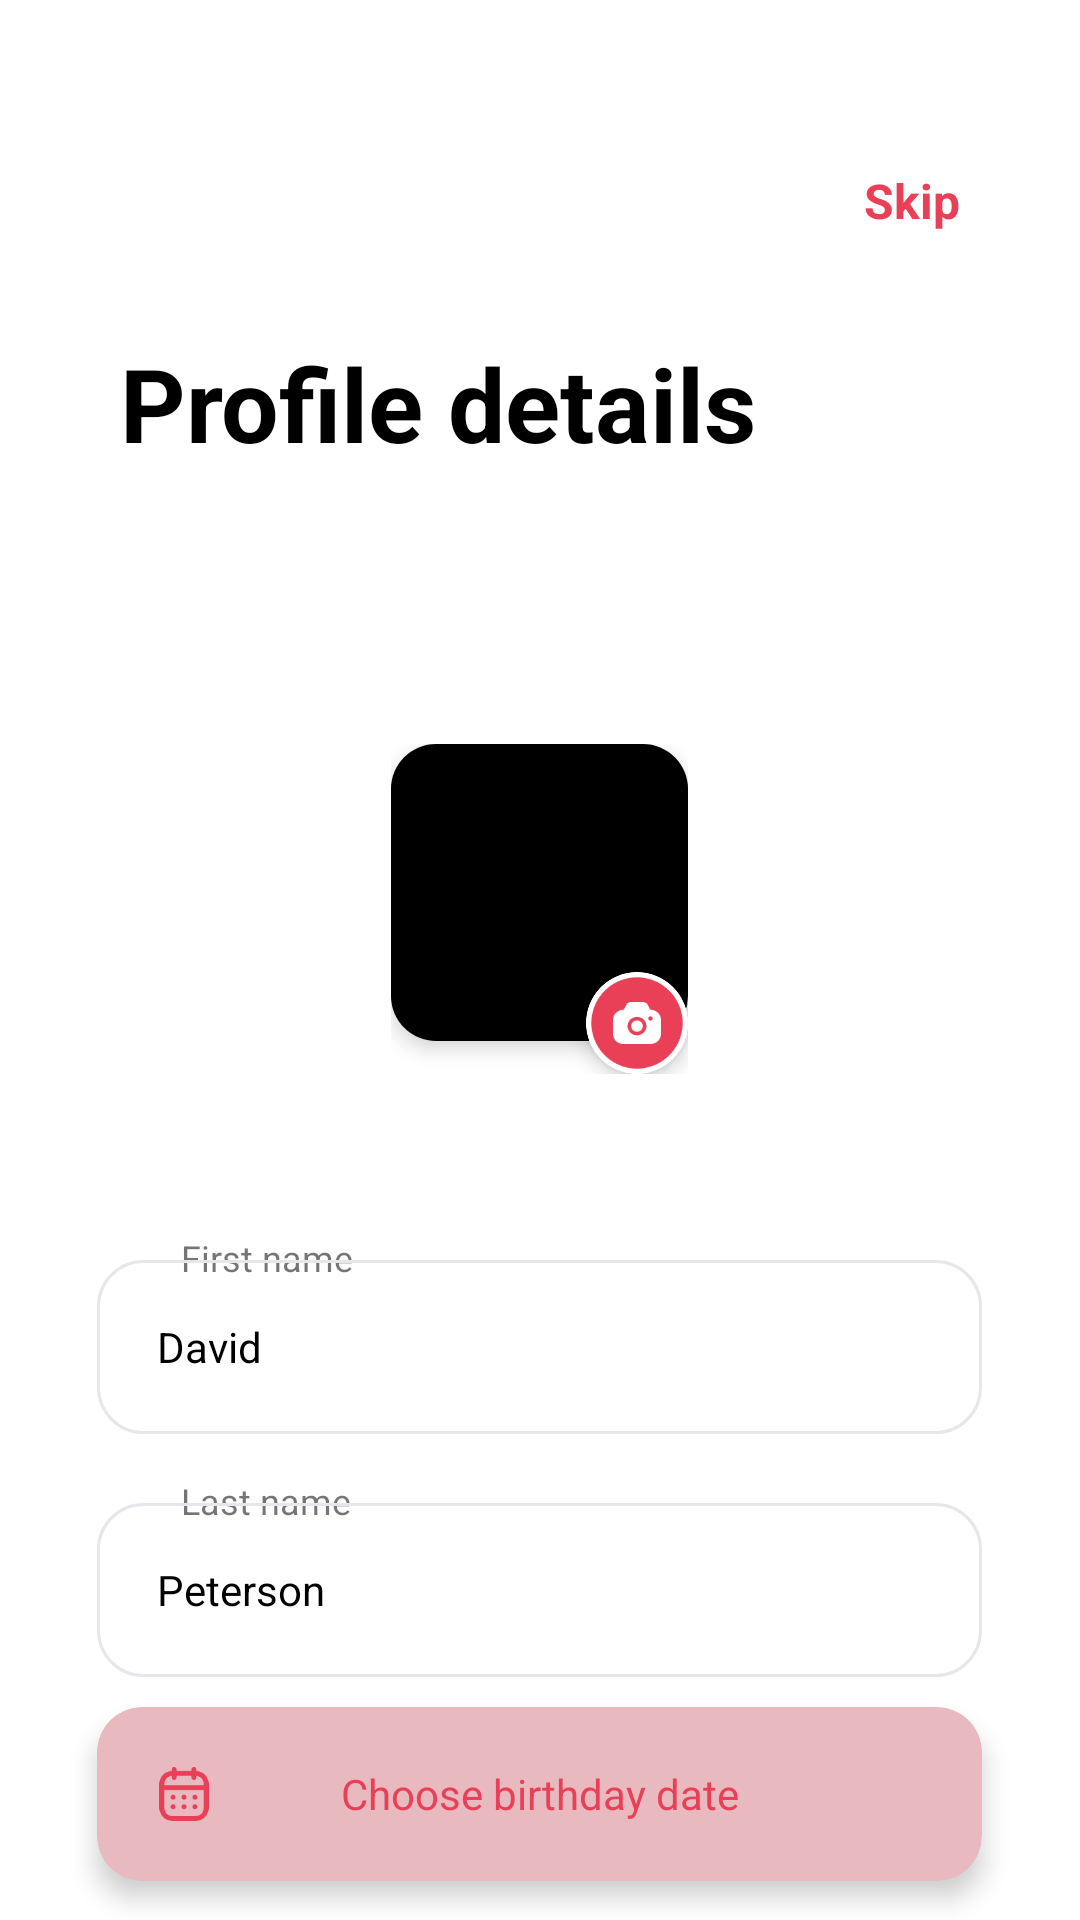

Named icons in this screenshot (1080 × 1920) and their centers, point (x, y):
calendar: point (184, 1794)
